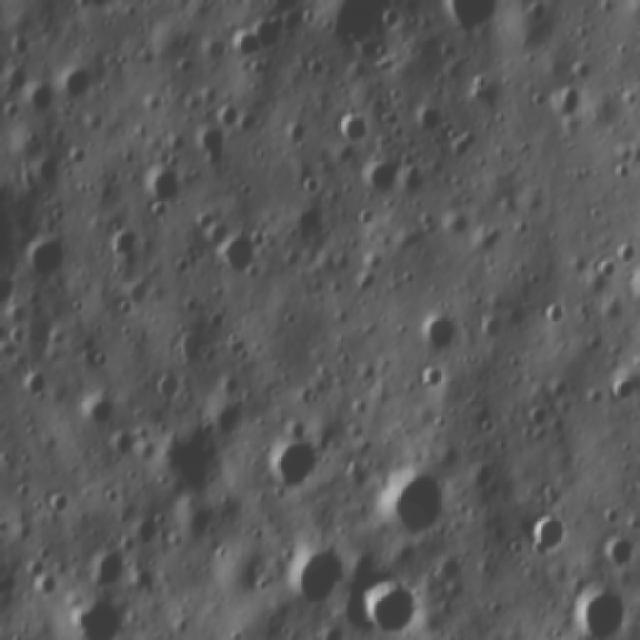crater: (144, 422, 233, 502), (372, 460, 451, 540), (258, 434, 330, 500), (359, 573, 430, 636), (284, 544, 353, 604), (210, 528, 265, 602), (568, 583, 630, 640), (22, 225, 78, 284), (523, 508, 579, 566), (70, 597, 139, 638), (210, 228, 262, 282), (138, 158, 190, 210), (82, 544, 136, 590), (277, 202, 325, 253), (416, 308, 462, 354), (105, 220, 153, 263), (357, 156, 406, 198), (252, 7, 294, 56), (191, 119, 231, 170), (54, 56, 94, 107), (328, 104, 370, 150), (20, 76, 58, 121), (78, 384, 119, 425), (445, 122, 480, 170), (167, 328, 207, 370), (146, 367, 191, 404), (543, 78, 582, 120), (351, 34, 394, 72), (598, 533, 636, 573), (408, 100, 442, 143), (15, 363, 52, 400), (598, 374, 637, 409), (35, 150, 67, 192), (412, 363, 451, 397), (228, 27, 263, 64), (125, 561, 158, 599), (470, 308, 502, 346), (28, 567, 60, 604), (42, 487, 80, 518), (538, 298, 570, 330), (375, 3, 408, 34), (298, 170, 322, 201), (287, 415, 308, 447), (100, 480, 120, 512), (90, 347, 112, 373)
